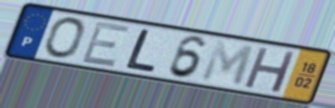6: (166, 34, 209, 80)
E: (78, 20, 133, 69)
H: (241, 45, 299, 95)
L: (123, 28, 159, 75)
M: (199, 38, 257, 89)
O: (41, 16, 86, 61)
